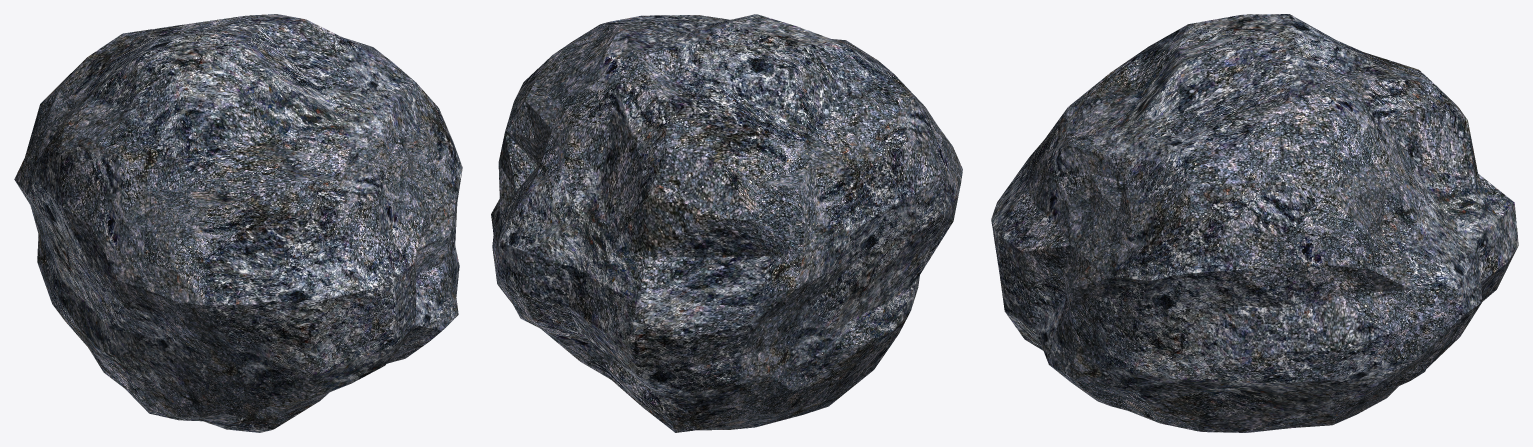
The model's file is asteroid_iron_medium_s02_l0.fbx.
3 views of the same model, side by side, from view 1: azimuth 30°, elevation 25°; view 2: azimuth 150°, elevation 25°; view 3: azimuth 270°, elevation 25° (orthographic). The views are drawn at different scales.
Visible parts, largest first — view 1: mesh_node; view 2: mesh_node; view 3: mesh_node.
Part boxes in pixels (x1=…): mesh_node: x1=14, y1=14, x2=462, y2=432; mesh_node: x1=491, y1=14, x2=962, y2=432; mesh_node: x1=991, y1=14, x2=1518, y2=432.
Size of the model in its own units: 56.06 by 51.76 by 65.34.
